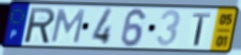3: (155, 9, 184, 49)
4: (90, 7, 115, 48)
6: (119, 7, 147, 48)
M: (49, 7, 87, 45)
R: (24, 6, 57, 45)
T: (191, 11, 212, 47)
